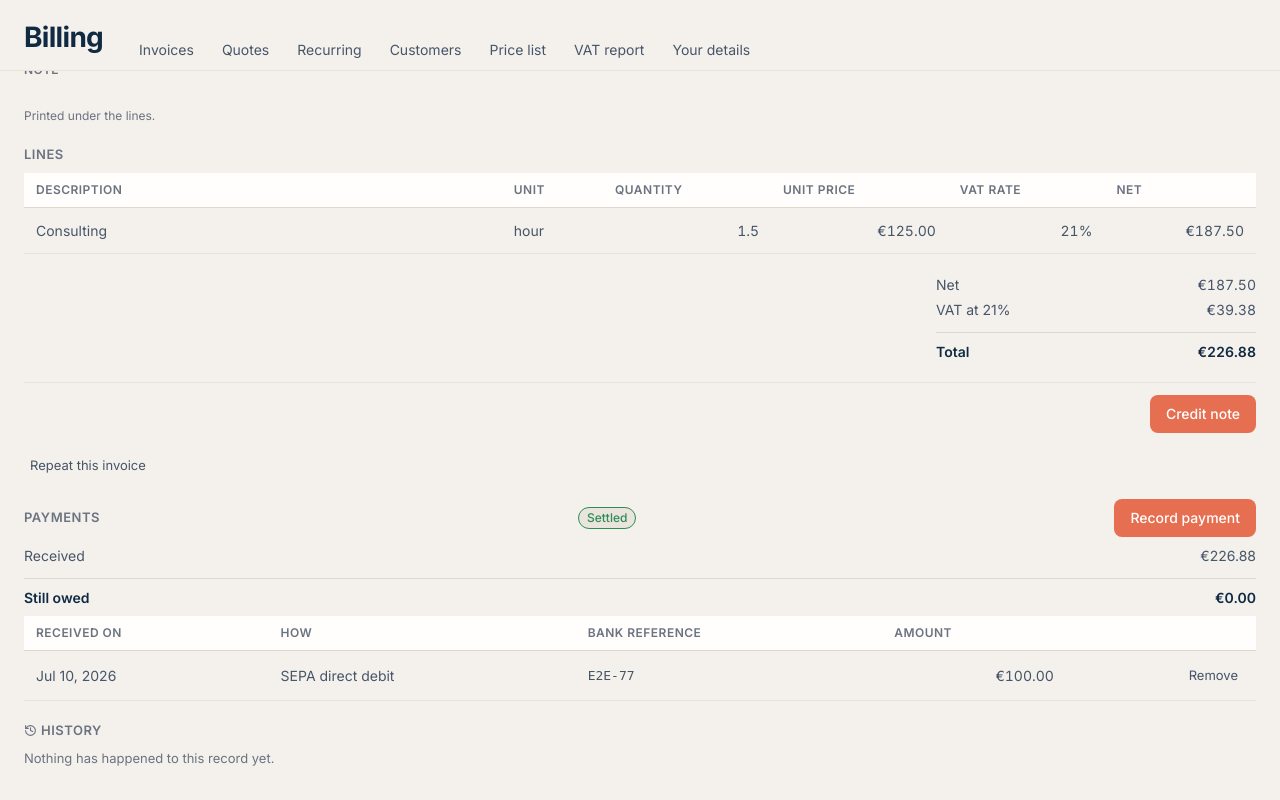
Test: the payment ledger of an invoice › removing a payment asks the server and adopts the document it answers
(page scrolled)
Expected: the text "SEPA direct debit" is shown, [269,650,576,700]
Click the button "Remove" at (1213, 675), box [1183,662,1244,688]
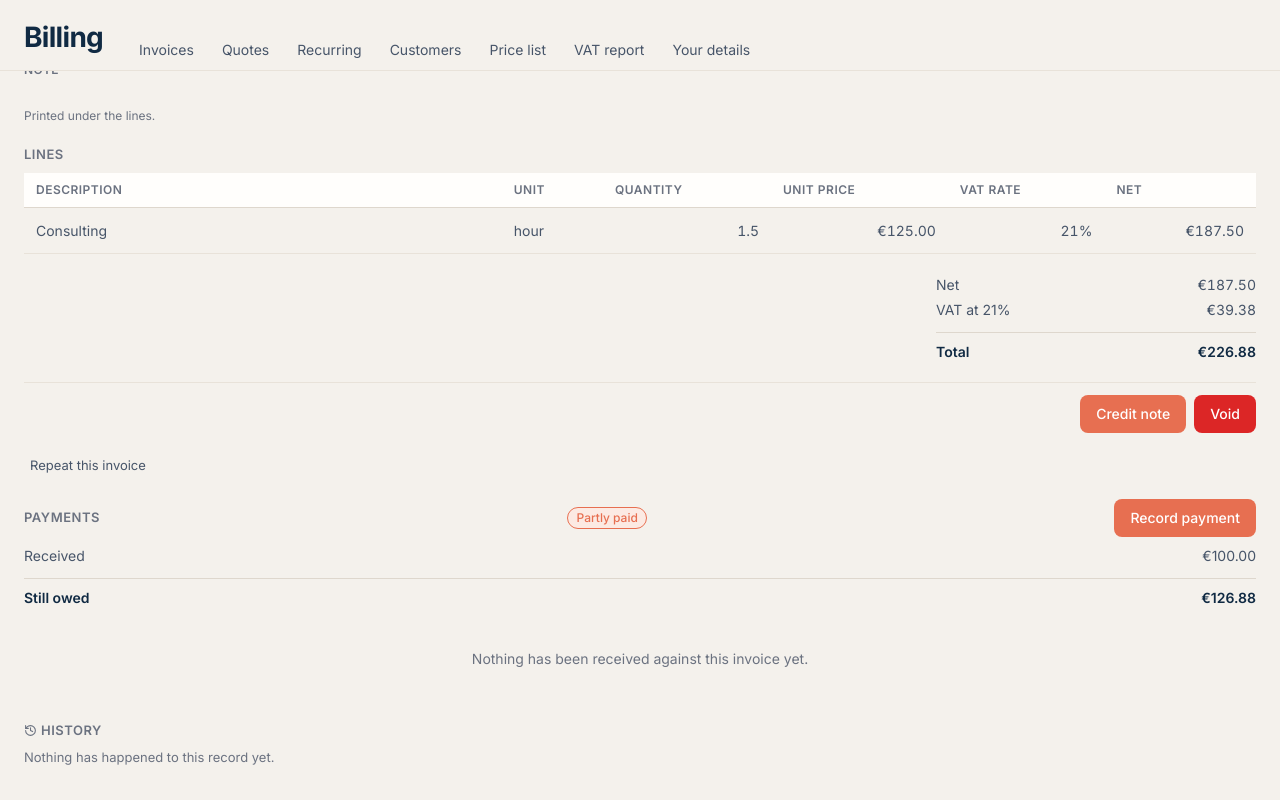
Now the text "Partly paid" is shown, box [568,506,647,528]
